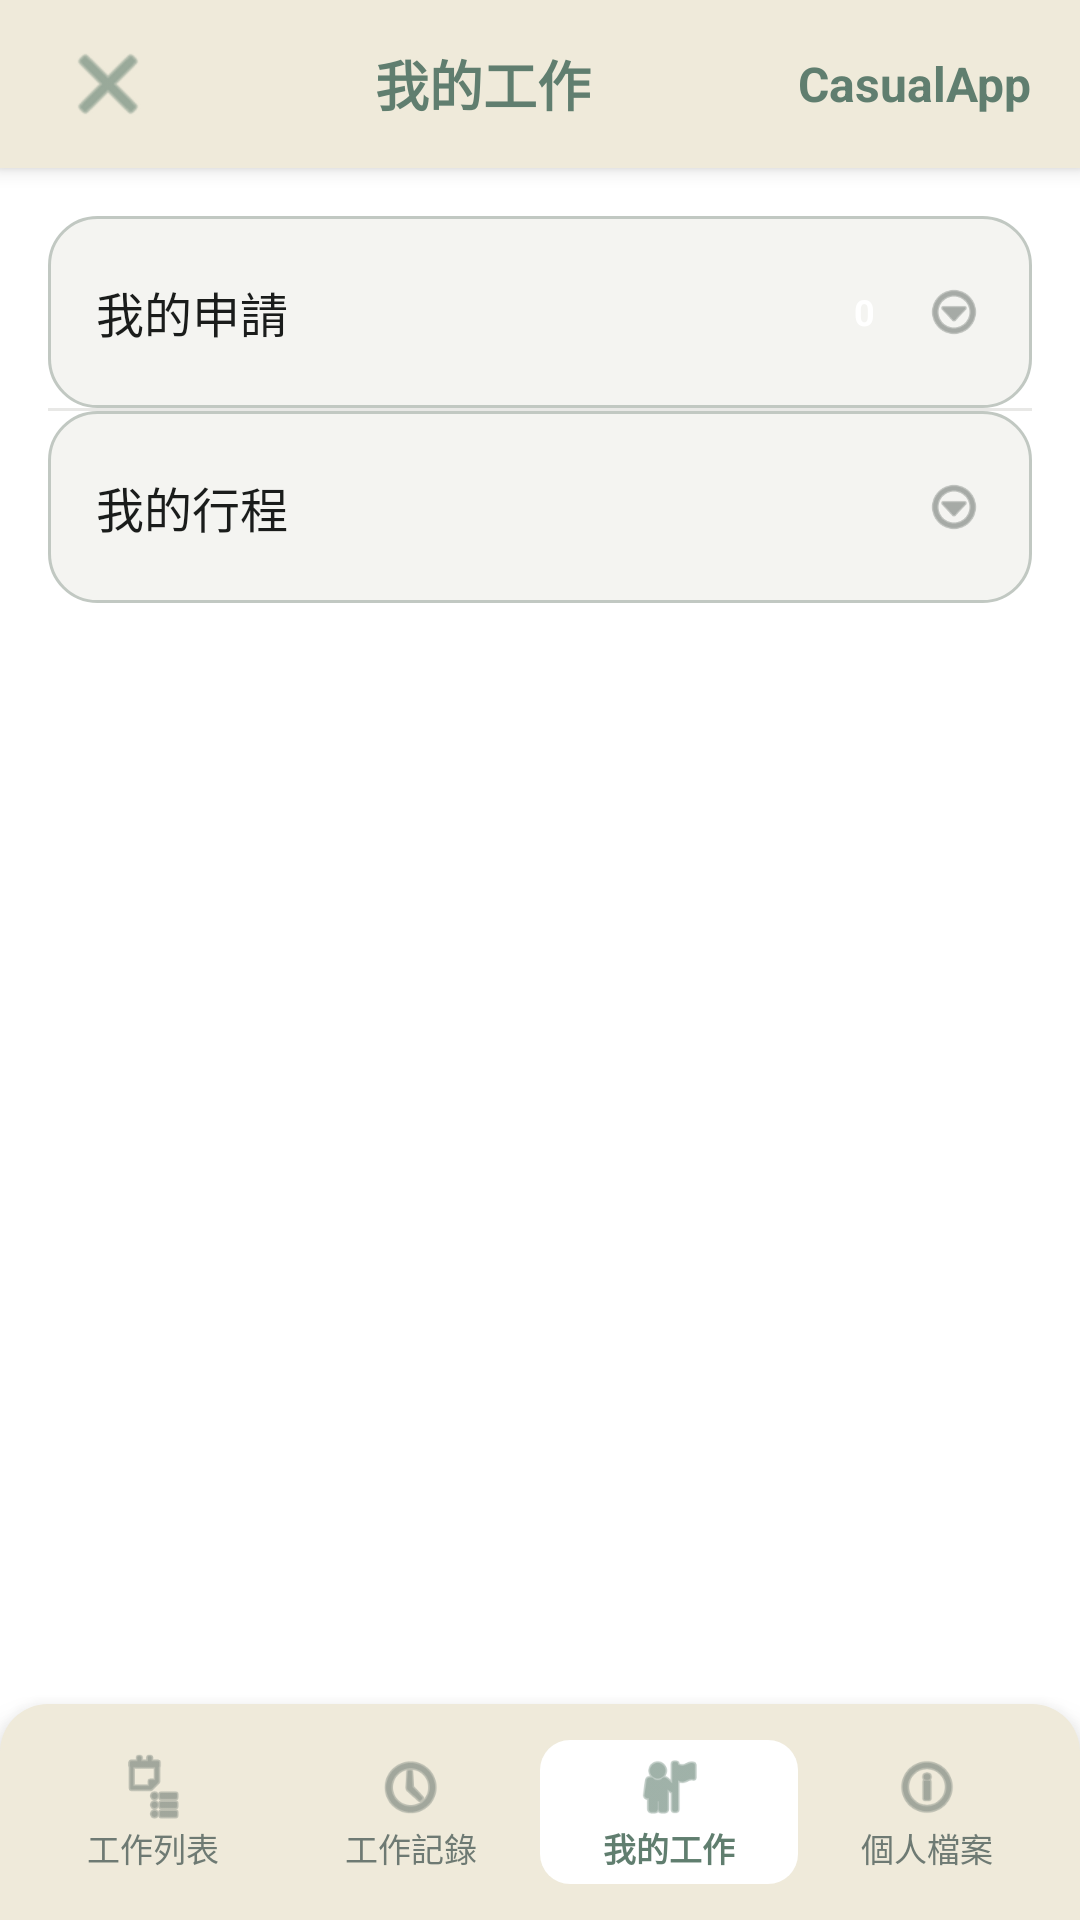

Icons on this 1080*1920 Android screen, each with its box as (left=x1, top=y1, right=x2, bottom=y2):
agenda: (left=128, top=1755, right=179, bottom=1819)
close clear cancel: (left=78, top=54, right=138, bottom=114)
info details: (left=901, top=1761, right=953, bottom=1813)
more: (left=932, top=290, right=976, bottom=334), (left=932, top=485, right=976, bottom=529)
myplaces: (left=643, top=1760, right=697, bottom=1814)
recent history: (left=385, top=1761, right=437, bottom=1813)
